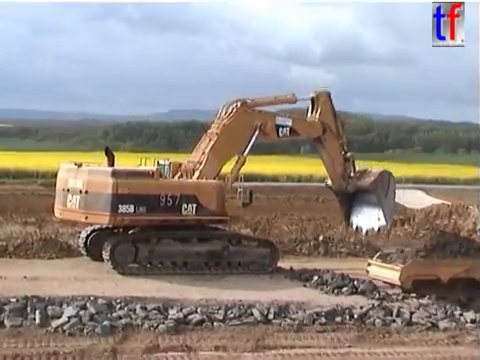excavator: (51, 87, 399, 276)
truck: (363, 244, 480, 332)
